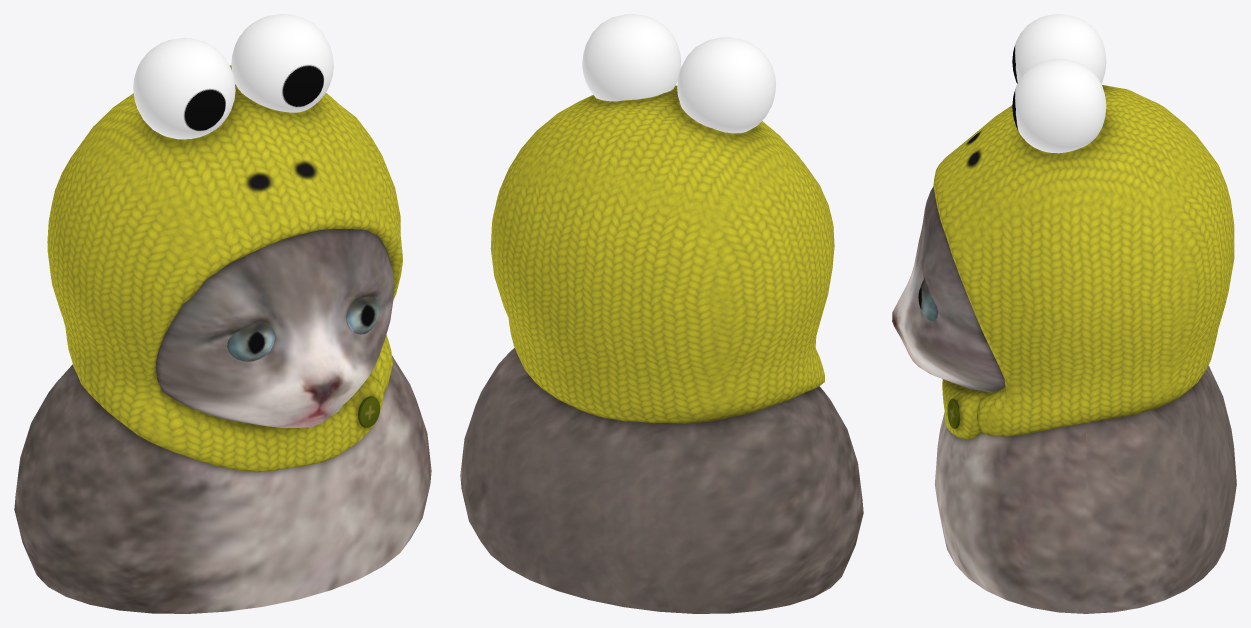
File: cat-in-hat.glb
The picture shows the model from 3 angles, left to right: view 1: azimuth 30°, elevation 25°; view 2: azimuth 150°, elevation 25°; view 3: azimuth 270°, elevation 25°; orthographic projection. The views are drawn at different scales.
Parts seen in each view (by area): view 1: cat; view 2: cat; view 3: cat.
Part boxes in pixels (left/top/right/bottom): cat: left=14, top=14, right=431, bottom=613; cat: left=460, top=14, right=863, bottom=613; cat: left=892, top=14, right=1236, bottom=613.
Size of the model in its own units: 4.47 by 5.92 by 3.77.
1 material, 1 textured.
